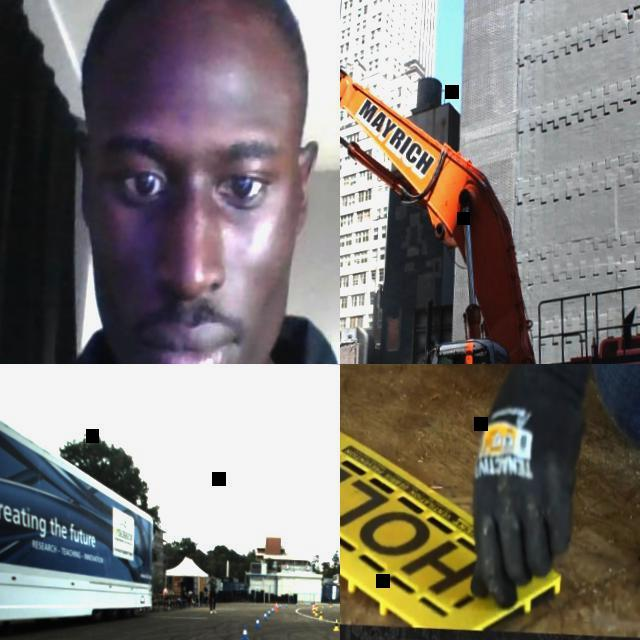machinery: (340, 45, 640, 364)
no_helmet: (79, 0, 320, 81), (210, 571, 214, 575), (164, 584, 168, 586), (182, 577, 184, 580), (192, 592, 195, 594), (189, 588, 191, 590)
no_mask: (80, 229, 293, 364)
no_vest: (210, 578, 217, 590), (162, 588, 166, 596), (181, 581, 184, 590), (181, 590, 185, 596)
person: (0, 0, 340, 364), (340, 364, 640, 618), (206, 570, 218, 614), (180, 586, 192, 608), (162, 583, 172, 608), (190, 591, 197, 603), (179, 577, 185, 590), (205, 590, 208, 606), (187, 588, 192, 596)
safety_cone: (240, 624, 249, 640), (332, 618, 340, 630), (253, 616, 260, 627), (262, 610, 266, 620), (274, 600, 278, 610), (318, 610, 322, 619), (267, 608, 270, 616), (270, 606, 273, 613), (314, 608, 317, 615), (312, 607, 315, 613), (310, 603, 312, 612), (276, 603, 278, 609), (284, 602, 287, 606), (205, 592, 208, 596), (314, 604, 316, 609), (315, 603, 317, 608), (208, 588, 210, 593), (278, 603, 280, 607), (295, 602, 297, 606), (306, 602, 308, 606), (321, 603, 323, 607), (329, 603, 331, 607)
